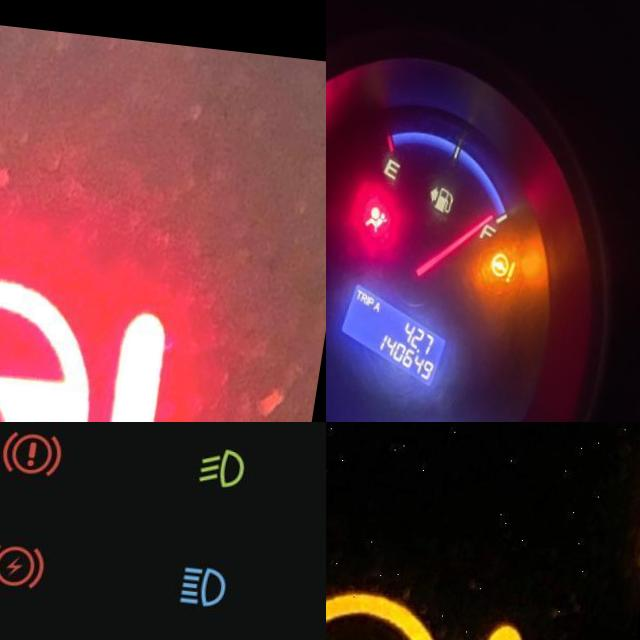Electronic Power Steering: (0, 259, 185, 422), (497, 243, 531, 273)
Electronic Power Steering Warning: (326, 572, 544, 640)
